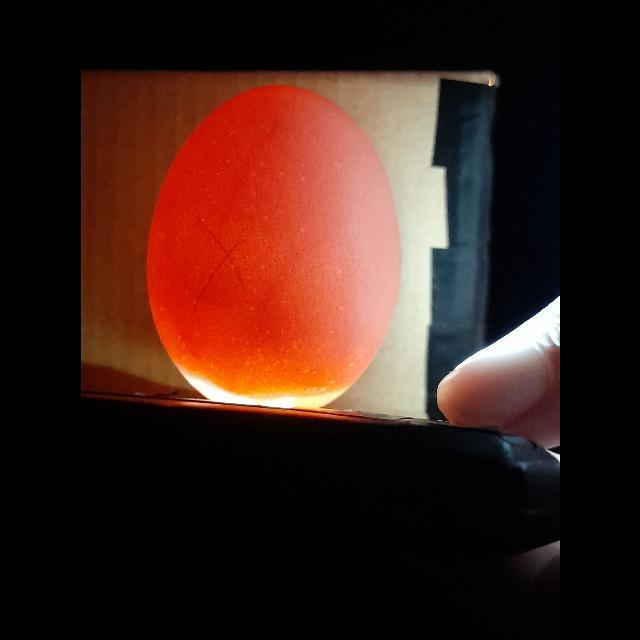Fertile: (141, 80, 401, 410)
